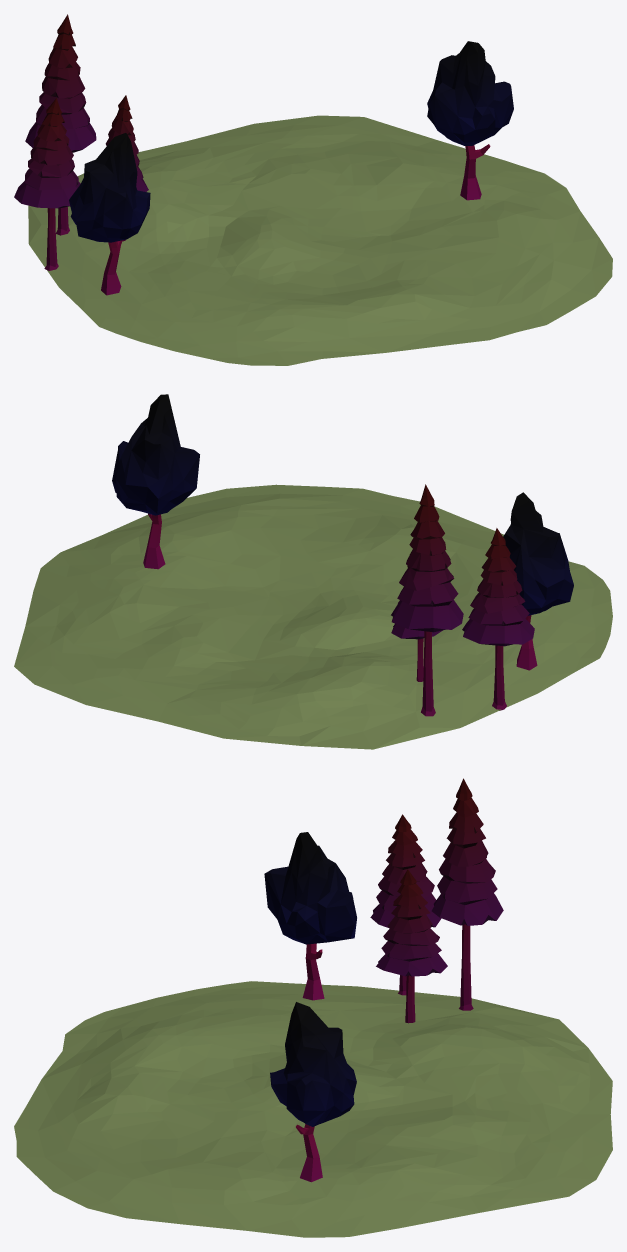
The model's file is weather.glb.
3 views of the same model, one above another, from view 1: azimuth 30°, elevation 25°; view 2: azimuth 150°, elevation 25°; view 3: azimuth 270°, elevation 25° (orthographic). The views are drawn at different scales.
Parts seen in each view (by area): view 1: SM_Terrain_Ground_Mound_Large_02.001, SM_Tree_01.001, SM_Tree_01.002, SM_Tree_PolyPine_01.003, SM_Tree_PolyPine_01.002, SM_Tree_PolyPine_01.001; view 2: SM_Terrain_Ground_Mound_Large_02.001, SM_Tree_01.001, SM_Tree_PolyPine_01.002, SM_Tree_01.002, SM_Tree_PolyPine_01.003, SM_Tree_PolyPine_01.001; view 3: SM_Terrain_Ground_Mound_Large_02.001, SM_Tree_01.002, SM_Tree_01.001, SM_Tree_PolyPine_01.002, SM_Tree_PolyPine_01.001, SM_Tree_PolyPine_01.003.
Boxes of the visible parts, <box> form: SM_Terrain_Ground_Mound_Large_02.001: <box>28,115,612,365</box>; SM_Tree_01.001: <box>427,41,513,200</box>; SM_Tree_01.002: <box>69,133,150,295</box>; SM_Tree_PolyPine_01.003: <box>14,98,80,270</box>; SM_Tree_PolyPine_01.002: <box>25,14,96,235</box>; SM_Tree_PolyPine_01.001: <box>105,95,148,241</box>; SM_Terrain_Ground_Mound_Large_02.001: <box>14,484,612,749</box>; SM_Tree_01.001: <box>112,394,199,569</box>; SM_Tree_PolyPine_01.002: <box>391,484,463,716</box>; SM_Tree_01.002: <box>503,492,573,670</box>; SM_Tree_PolyPine_01.003: <box>462,528,534,710</box>; SM_Tree_PolyPine_01.001: <box>391,554,442,681</box>; SM_Terrain_Ground_Mound_Large_02.001: <box>14,981,612,1237</box>; SM_Tree_01.002: <box>264,832,356,1000</box>; SM_Tree_01.001: <box>270,1002,356,1182</box>; SM_Tree_PolyPine_01.002: <box>431,778,503,1010</box>; SM_Tree_PolyPine_01.001: <box>376,869,447,1023</box>; SM_Tree_PolyPine_01.003: <box>370,814,441,995</box>.
Bounding box in the file's own units: 20.05 × 8.98 × 19.51.
1 material, 1 textured.
